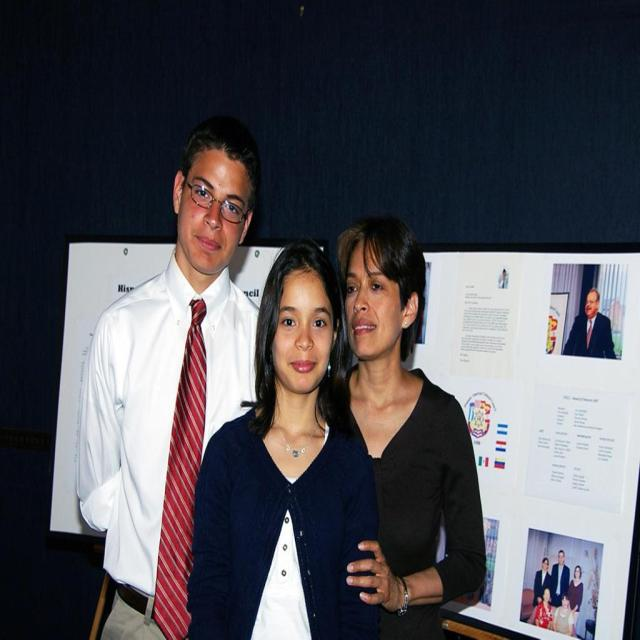Face: (181, 148, 260, 279), (271, 264, 334, 392), (339, 236, 404, 360)
